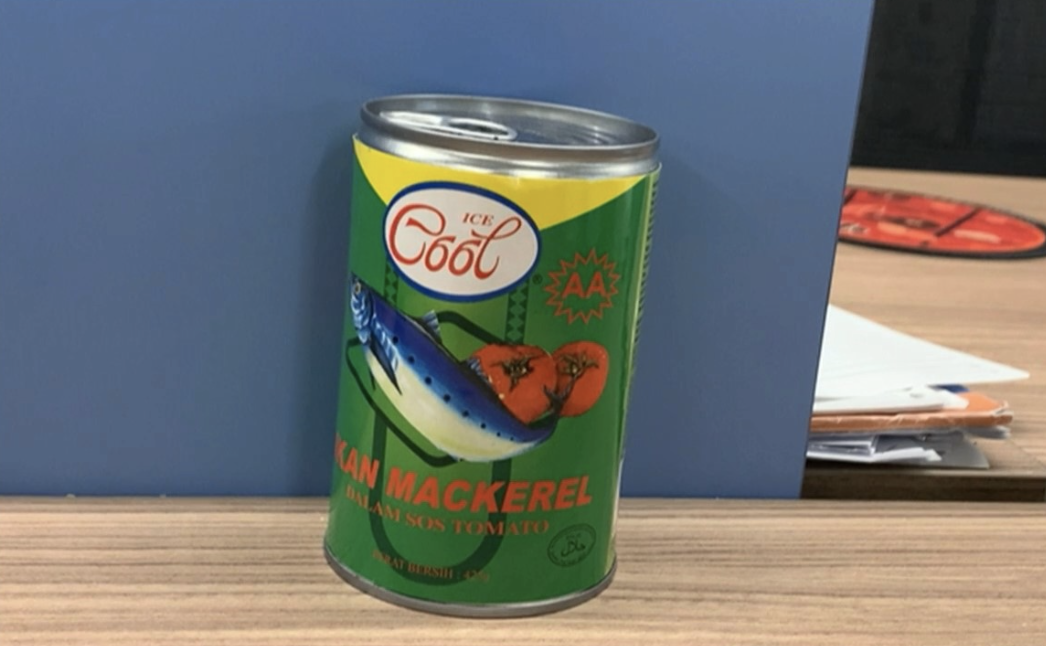sardines_450g: (346, 167, 623, 587)
